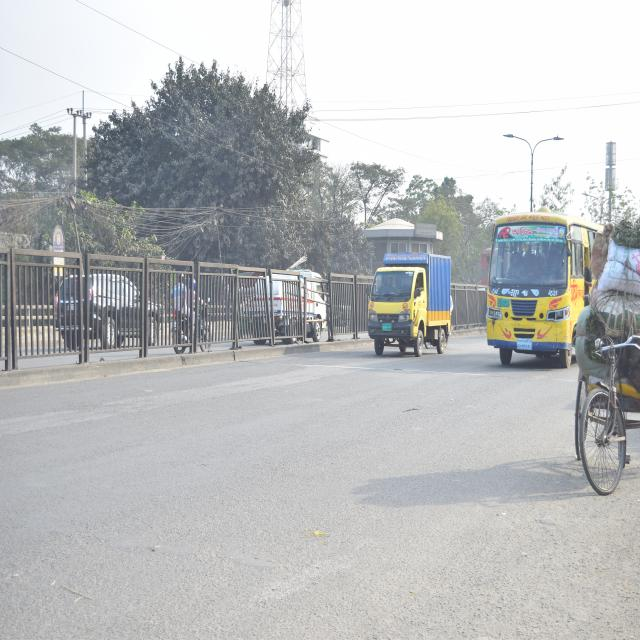bus: (483, 209, 598, 370)
pickup-van: (364, 249, 452, 359)
